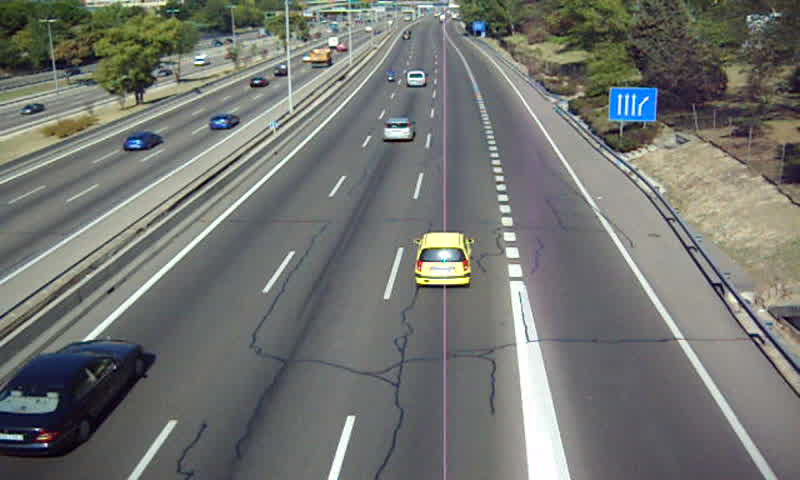car: (1, 340, 143, 457), (411, 231, 474, 288), (382, 117, 416, 143), (406, 70, 425, 88)
motorcycle: (386, 68, 394, 83)
